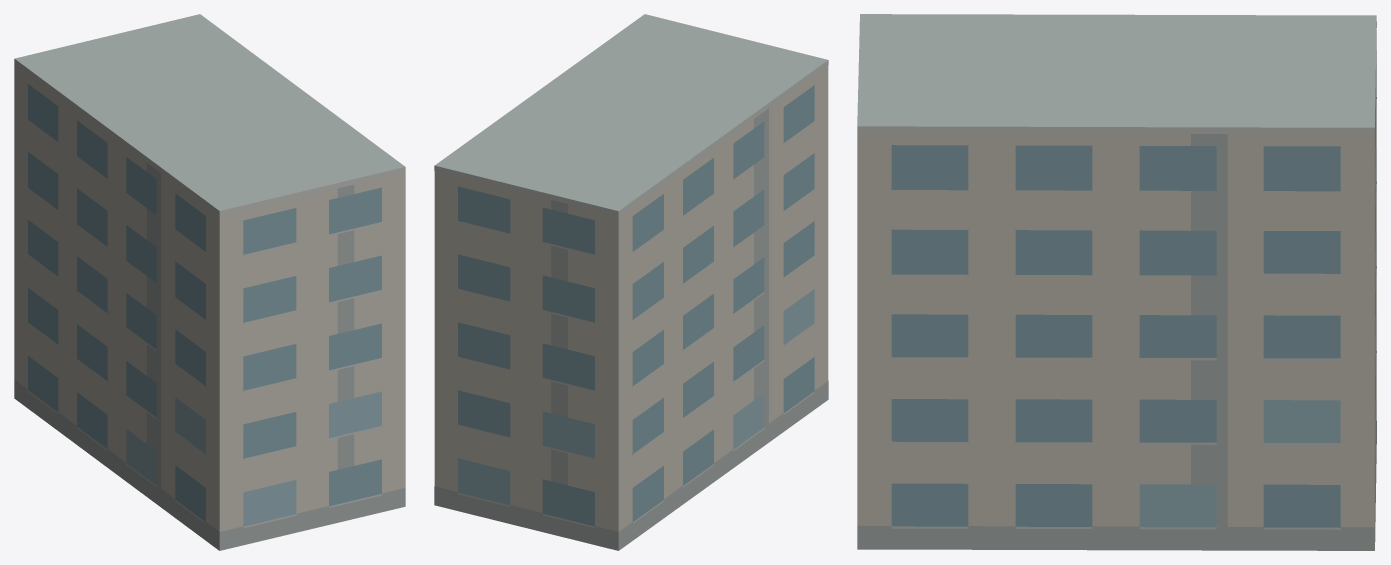
Rendered from survey-upis-32634209.glb.
The picture shows the model from 3 angles, left to right: view 1: azimuth 30°, elevation 25°; view 2: azimuth 150°, elevation 25°; view 3: azimuth 270°, elevation 25°; orthographic projection. The views are drawn at different scales.
Visible parts, largest first — view 1: survey-upis-32634209.tmp; view 2: survey-upis-32634209.tmp; view 3: survey-upis-32634209.tmp.
Boxes of the visible parts, x1,y1,x2,y2 form: survey-upis-32634209.tmp: (14,14,405,550); survey-upis-32634209.tmp: (434,14,828,550); survey-upis-32634209.tmp: (857,14,1376,550).
Bounding box in the file's own units: 8.81 × 15.25 × 16.98.
